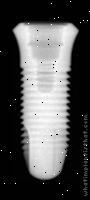Anthogyr: (12, 23, 79, 181)
